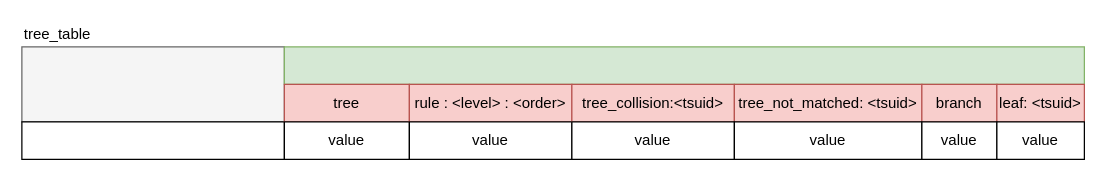
The diagram is 1106 pixels wide and 181 high, and some of its shapes have lost their labels. Here are the shapes that lost their labels. From the top down, the centre of each, then its label:
[152,84]: Row Key
[683,65]: Column Family: t
[152,140]: <treeID><branch ID>
